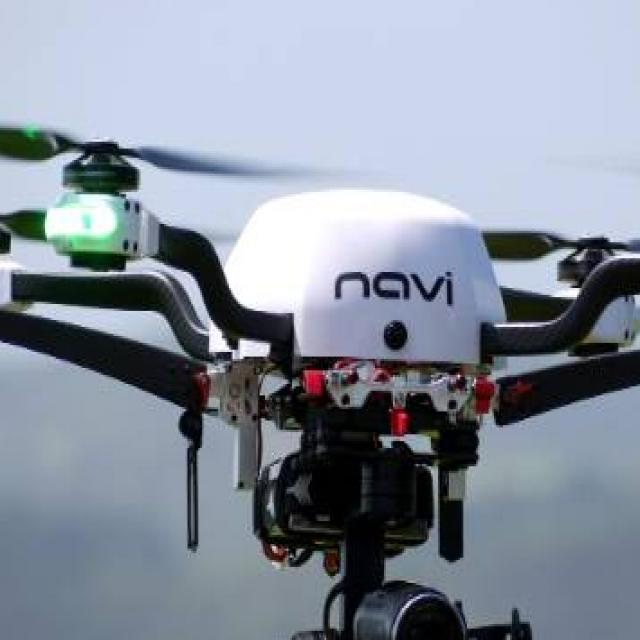drone: (0, 57, 640, 560)
